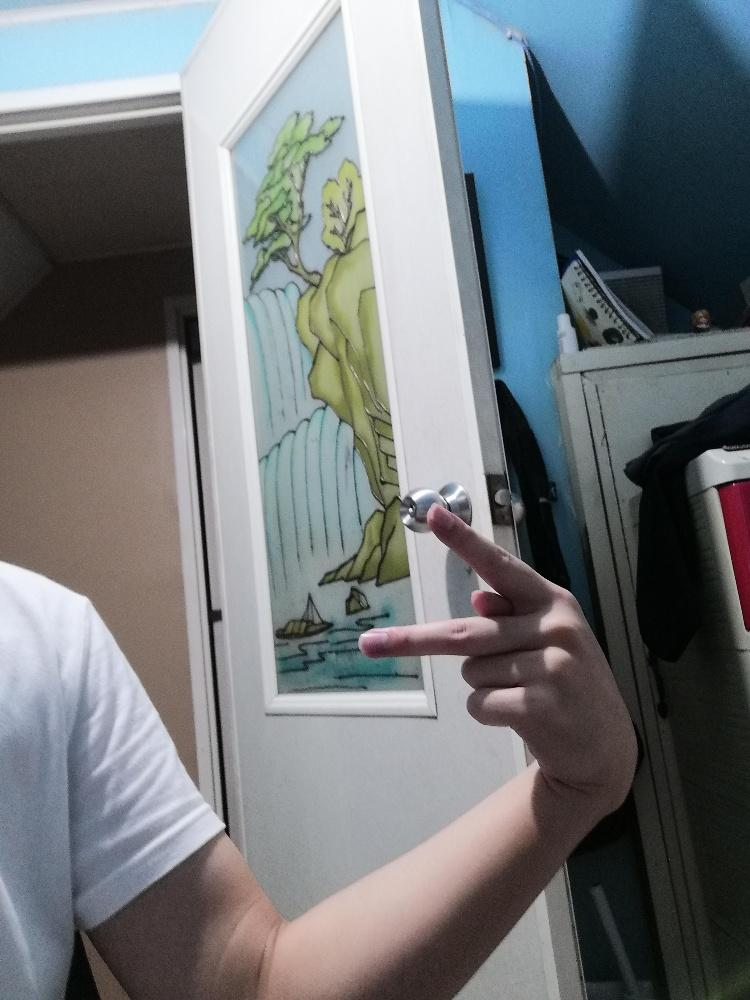k: (359, 502, 636, 779)
